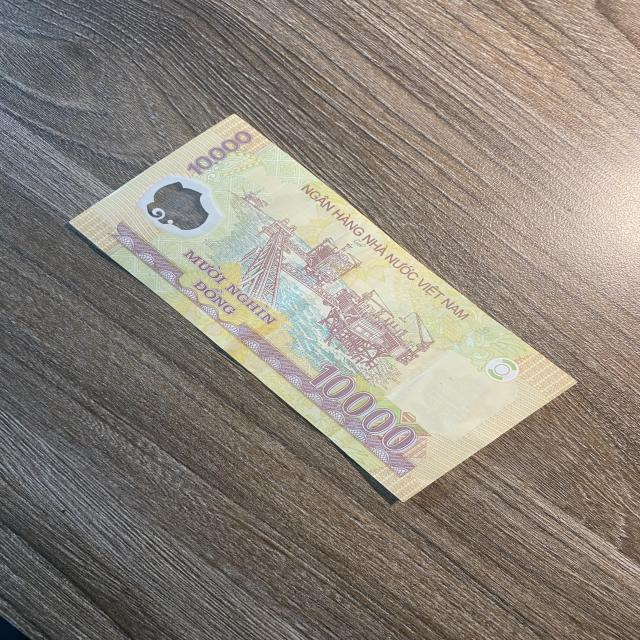10 000 VND: (66, 112, 579, 506)
